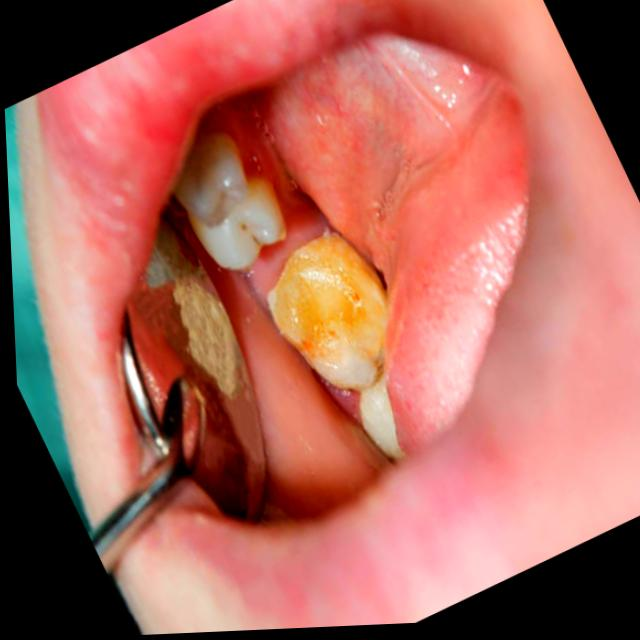cariess: (268, 232, 388, 391), (174, 276, 248, 398)
